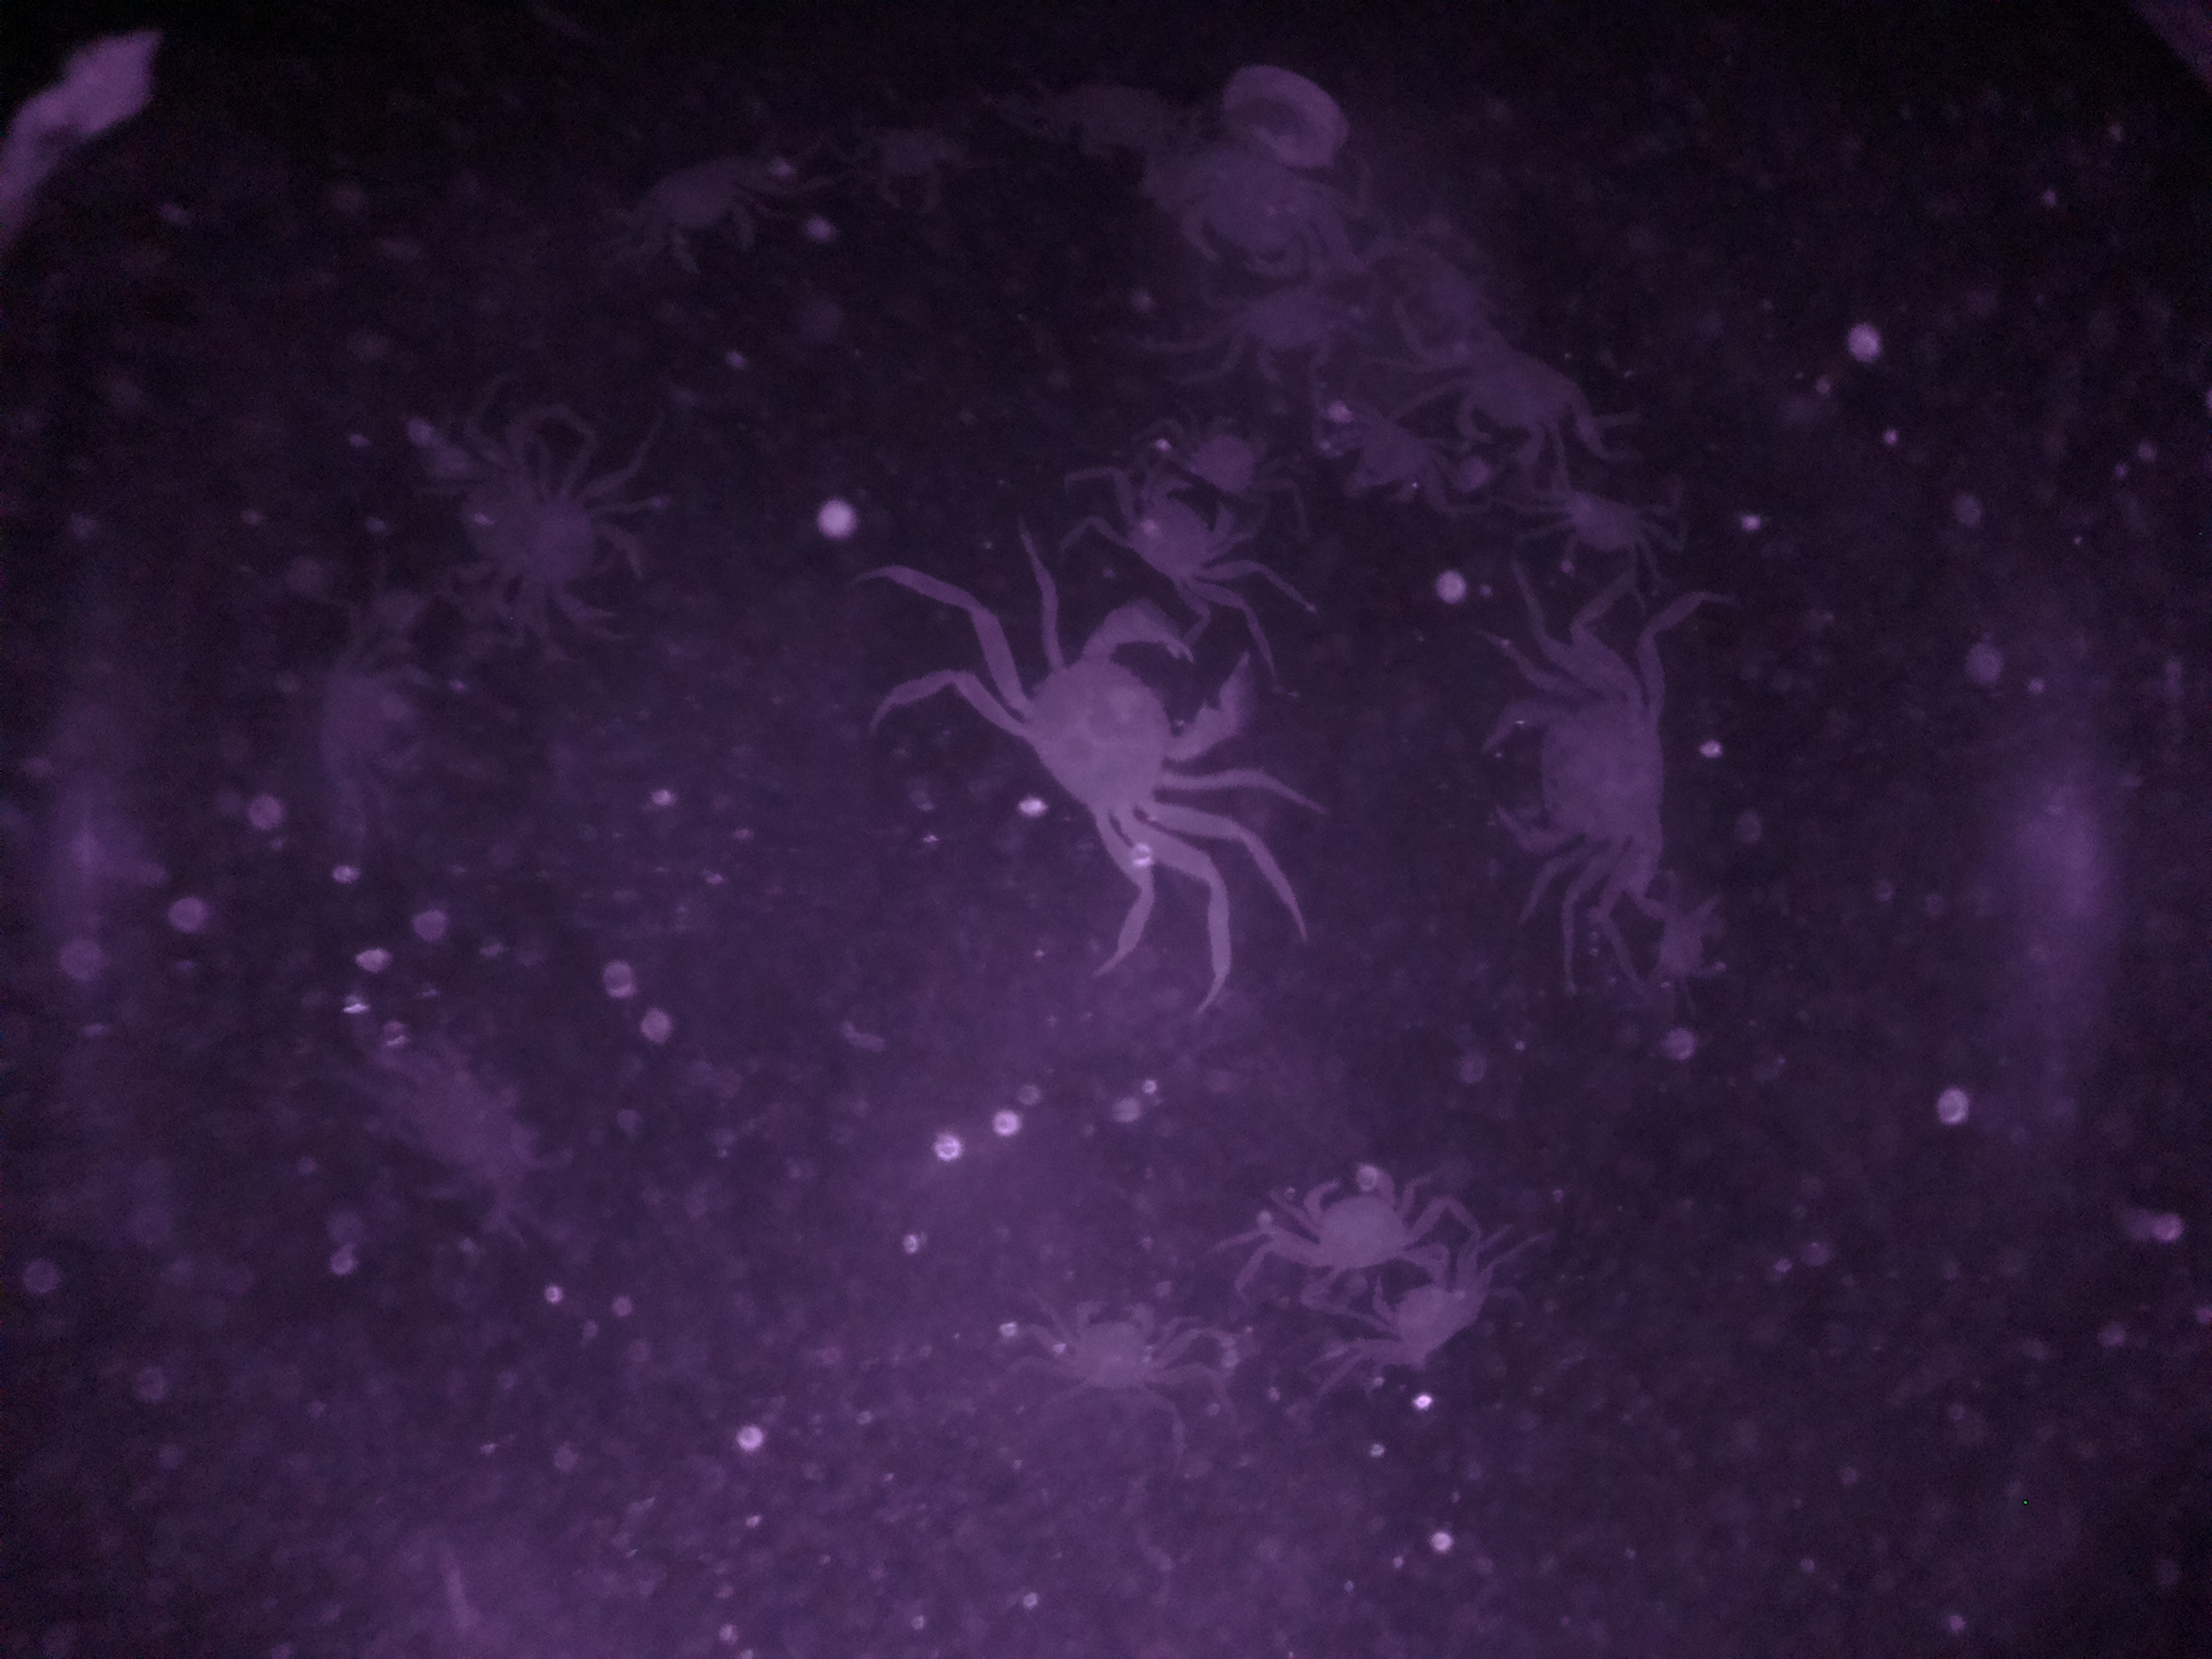Crab: (977, 598, 1261, 871), (1489, 648, 1703, 917), (1092, 460, 1252, 598), (1357, 1241, 1489, 1396), (1289, 1143, 1420, 1288), (1524, 483, 1698, 591), (1036, 1284, 1181, 1413)
